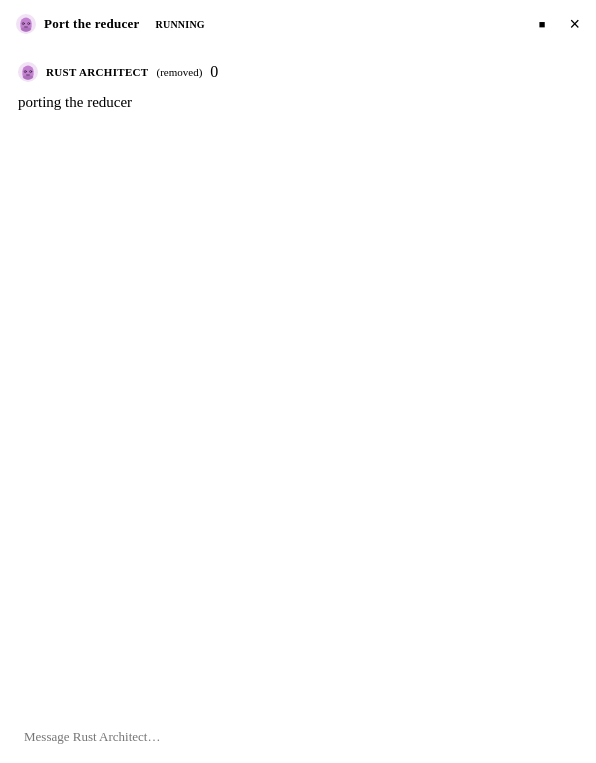
Scenario: WorkspaceTaskTranscriptPanel › task composer › send error keeps text and shows alert
Type "Try again" into the text box labelled "Message Rust Architect…" at [271, 736], box [24,727,518,746]
Then press Enter
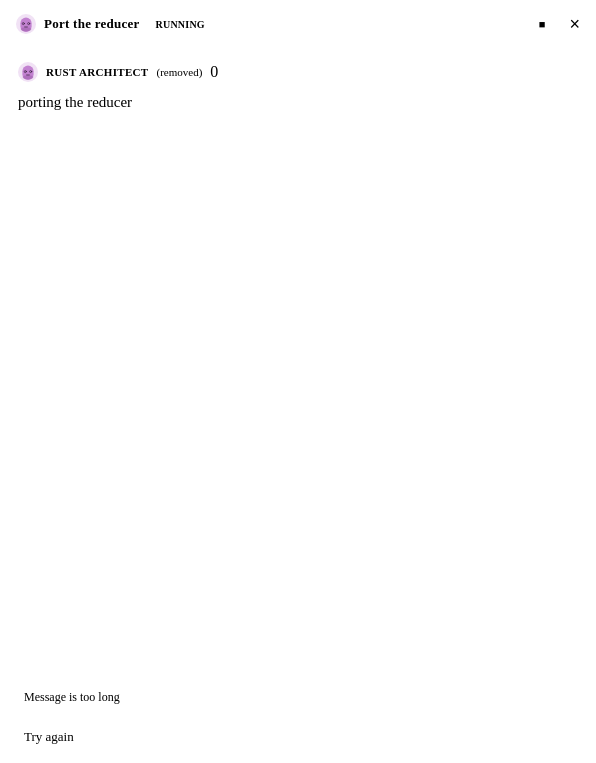
Now the message reads "Message is too long", box [24,690,120,704]
